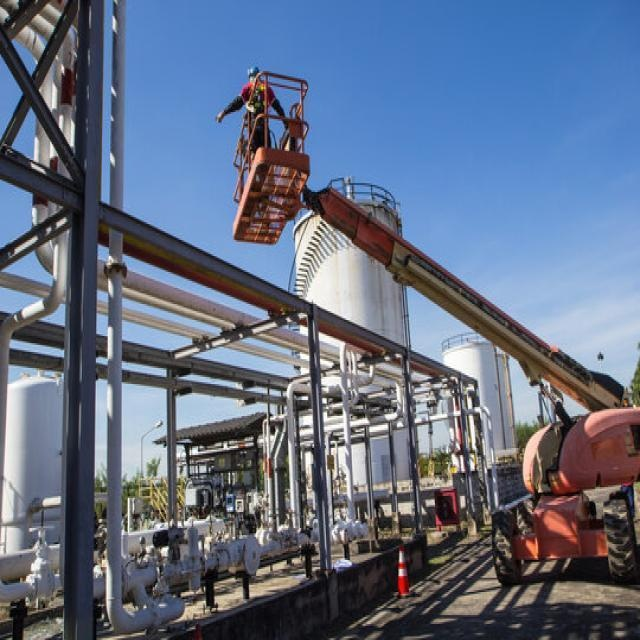Arnes_seguridad: (247, 79, 267, 122)
